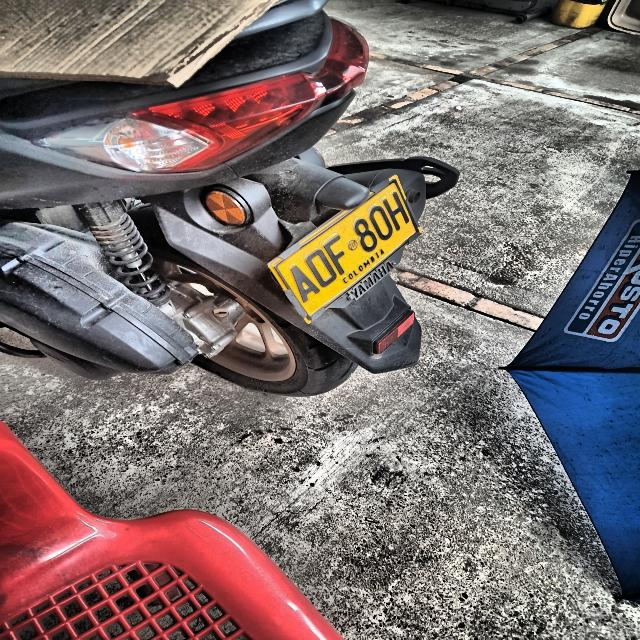plate: (271, 176, 421, 322)
